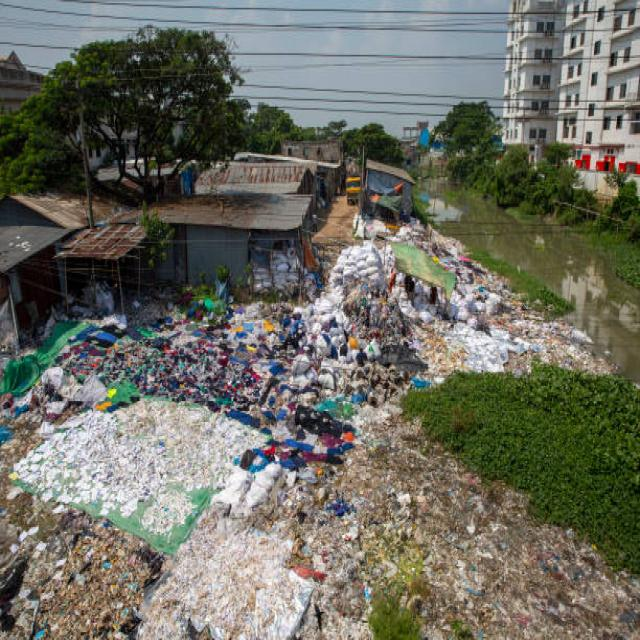trash: (69, 240, 460, 555)
